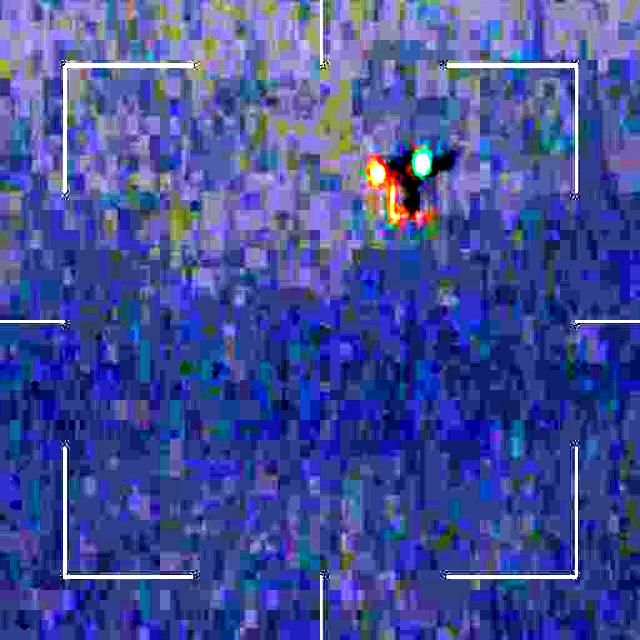bird: (366, 144, 450, 228)
